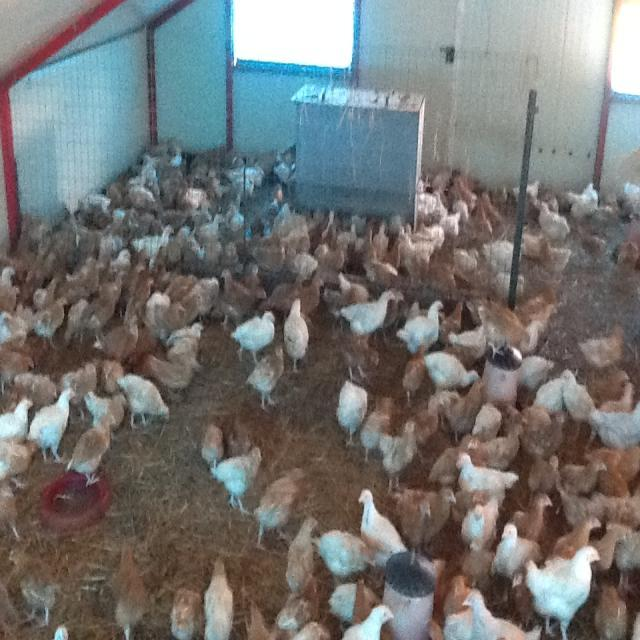poussin: (526, 545, 604, 632), (103, 533, 154, 640), (393, 484, 461, 548), (464, 587, 545, 640), (9, 544, 62, 624), (65, 412, 122, 485), (24, 389, 76, 467), (310, 522, 380, 579), (252, 473, 306, 546), (375, 414, 423, 496), (452, 452, 522, 508), (268, 573, 325, 640), (212, 444, 264, 516), (357, 485, 405, 560), (472, 298, 534, 356), (339, 284, 403, 340), (199, 554, 239, 640), (403, 390, 453, 457), (145, 336, 204, 392), (428, 430, 484, 488), (512, 400, 572, 454), (586, 438, 640, 497), (560, 368, 603, 438), (444, 376, 488, 444), (492, 521, 544, 578), (122, 368, 168, 432), (400, 294, 447, 356), (245, 344, 286, 414), (61, 206, 124, 251), (336, 380, 374, 454), (80, 284, 122, 350), (586, 400, 640, 451), (283, 516, 322, 584), (558, 485, 621, 527), (233, 308, 280, 364), (518, 290, 559, 354), (424, 352, 482, 397), (328, 574, 384, 620), (260, 269, 311, 319), (0, 430, 38, 497), (582, 518, 629, 572), (341, 326, 388, 380), (167, 581, 209, 640), (282, 295, 313, 373), (480, 422, 528, 472), (58, 357, 98, 417), (552, 513, 604, 559), (461, 492, 503, 548), (28, 296, 74, 347), (557, 457, 611, 499), (598, 578, 636, 637), (94, 315, 147, 357), (577, 325, 624, 372), (286, 273, 328, 325), (360, 398, 392, 466), (62, 250, 101, 305), (12, 371, 61, 414), (126, 220, 180, 259), (512, 488, 554, 536), (340, 602, 392, 640), (564, 183, 606, 230), (218, 267, 252, 325), (0, 393, 33, 451), (82, 388, 132, 426), (397, 230, 438, 276), (20, 249, 58, 296), (0, 348, 37, 396), (141, 287, 175, 339), (0, 475, 28, 538), (400, 343, 428, 404), (532, 371, 569, 417), (188, 274, 225, 320), (446, 320, 487, 360), (167, 315, 210, 353), (0, 306, 34, 354), (524, 452, 563, 493), (596, 381, 636, 420), (535, 202, 572, 244), (362, 247, 401, 286), (126, 270, 157, 318), (481, 239, 526, 272), (250, 233, 290, 270), (576, 228, 614, 266), (538, 234, 576, 272), (442, 574, 472, 622), (64, 294, 94, 342), (305, 206, 338, 248), (99, 262, 131, 305), (338, 211, 370, 254), (32, 218, 72, 252), (201, 420, 229, 468), (240, 259, 269, 305), (370, 218, 400, 262), (470, 402, 506, 438), (30, 274, 64, 312), (508, 572, 536, 618), (0, 260, 23, 316), (352, 579, 377, 630), (435, 298, 468, 336), (418, 182, 450, 221), (284, 204, 310, 250), (130, 206, 164, 241), (165, 273, 202, 305), (279, 248, 320, 276), (136, 146, 166, 183), (263, 200, 292, 238), (230, 155, 274, 179), (98, 354, 124, 394), (492, 270, 529, 298), (454, 244, 481, 281), (472, 197, 496, 238), (77, 188, 111, 216), (162, 134, 188, 170), (513, 176, 542, 208), (194, 233, 224, 263), (421, 218, 449, 250), (128, 179, 160, 207), (192, 210, 222, 239), (104, 238, 132, 269), (164, 226, 188, 262), (217, 233, 242, 266), (183, 223, 202, 266), (518, 230, 549, 256), (110, 200, 134, 233), (315, 244, 342, 272), (202, 169, 229, 196), (438, 206, 463, 235), (221, 198, 245, 228), (452, 192, 476, 221), (162, 174, 186, 203), (180, 182, 205, 208), (230, 168, 256, 193)
